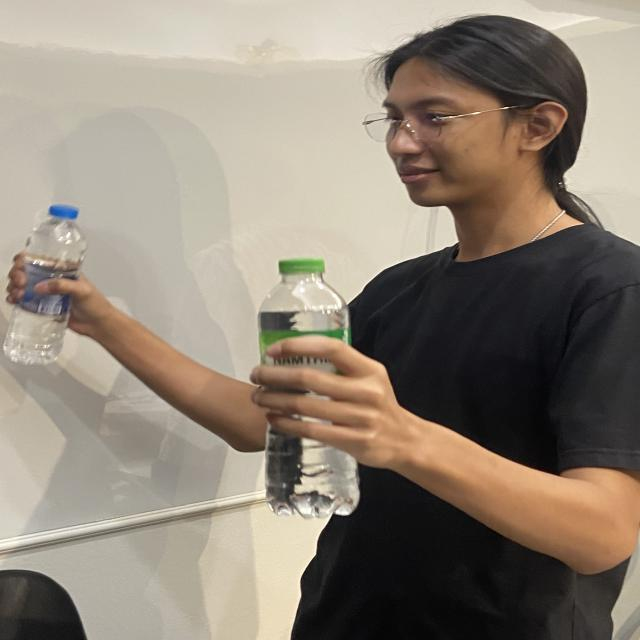bottle: (236, 252, 383, 509), (4, 202, 90, 364)
